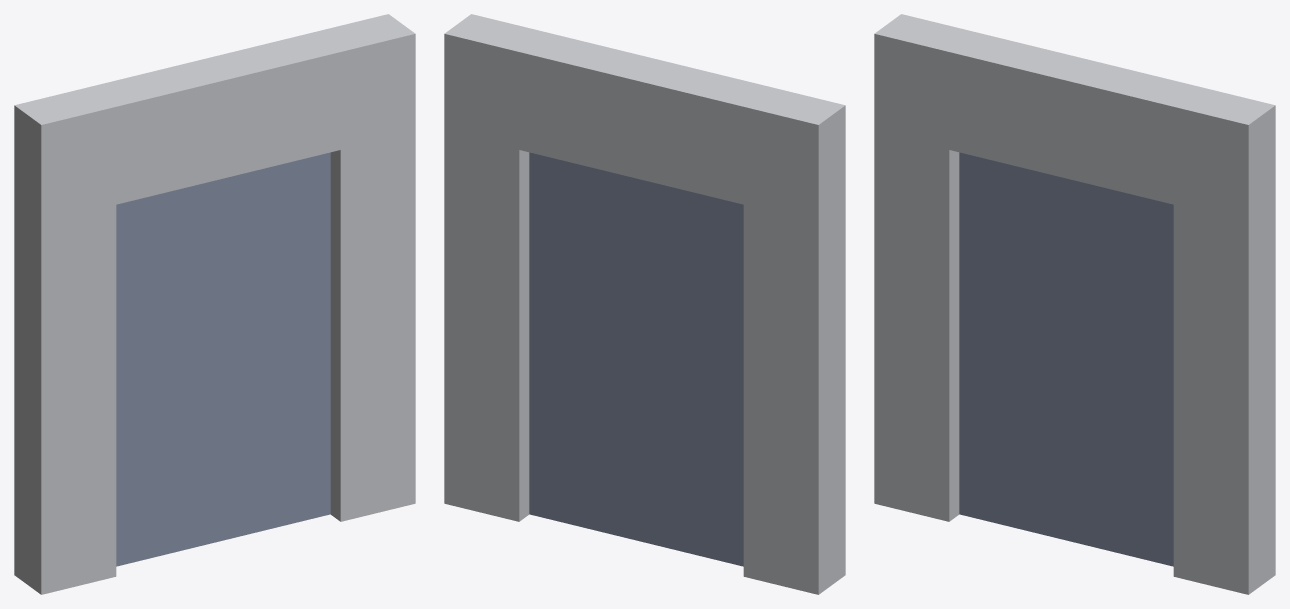
The model's file is WallDoor.fbx.
The picture shows the model from 3 angles, left to right: view 1: azimuth 30°, elevation 25°; view 2: azimuth 150°, elevation 25°; view 3: azimuth 330°, elevation 25°; orthographic projection.
Parts seen in each view (by area): view 1: Door, Lintel, PostL, PostR; view 2: Door, Lintel, PostL, PostR; view 3: Door, Lintel, PostR, PostL.
Boxes of the visible parts, x1,y1,x2,y2 form: Door: (116,152,330,566); Lintel: (14,14,415,222); PostL: (14,107,116,594); PostR: (330,34,415,521); Door: (529,152,743,566); Lintel: (444,14,845,222); PostL: (743,105,845,594); PostR: (444,35,529,521); Door: (959,152,1173,566); Lintel: (874,14,1275,222); PostR: (1173,105,1275,594); PostL: (874,35,959,521).
Size of the model in its own units: 200 by 240 by 25.
